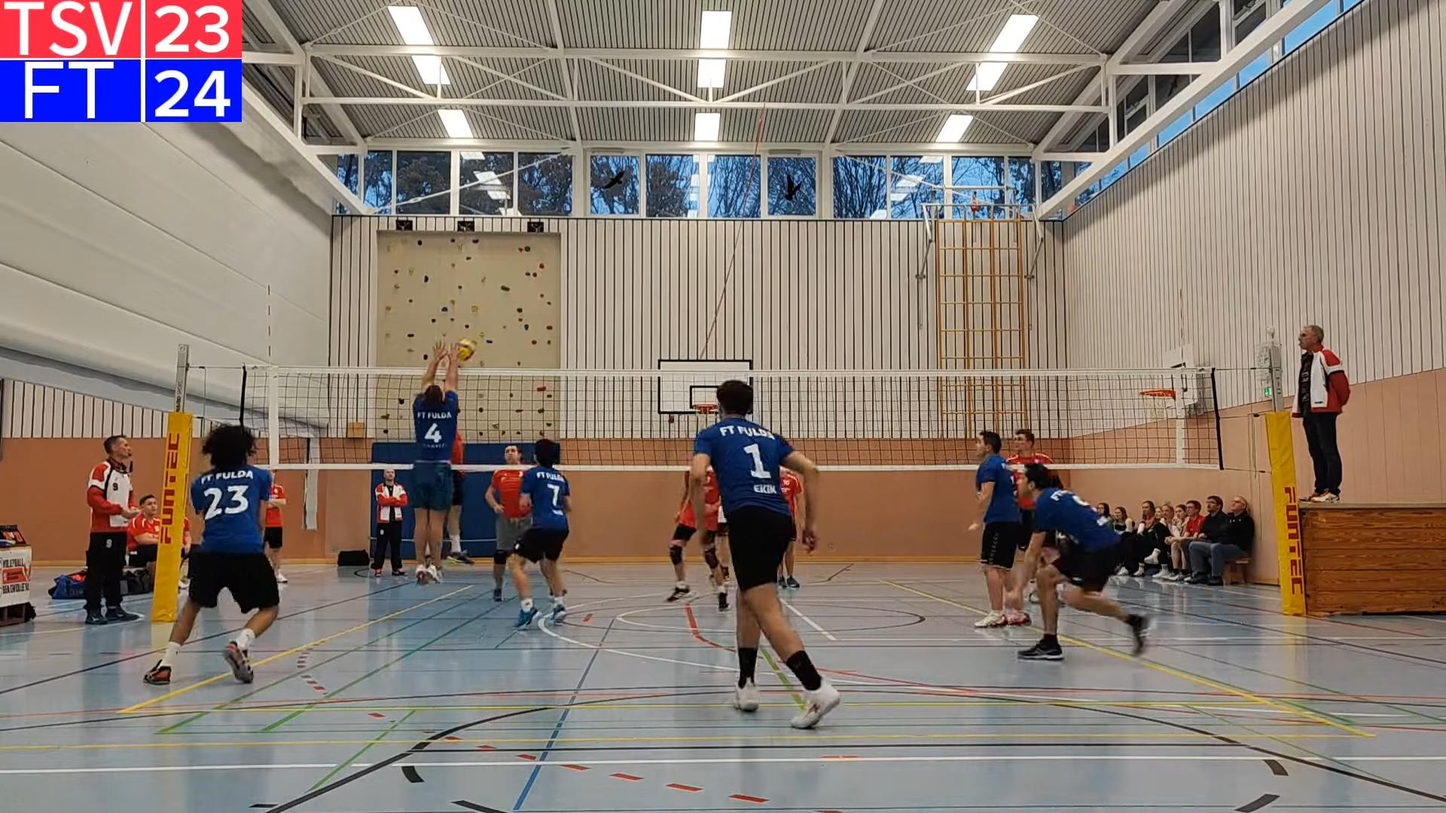Attack: (453, 334, 476, 570)
Block: (408, 342, 462, 589)
Player: (690, 380, 840, 728), (144, 425, 279, 684), (1018, 464, 1148, 659), (970, 431, 1029, 627), (510, 439, 571, 627), (667, 471, 728, 611), (485, 445, 530, 601), (778, 470, 804, 589), (1008, 428, 1053, 490)
ball: (458, 343, 481, 359)
